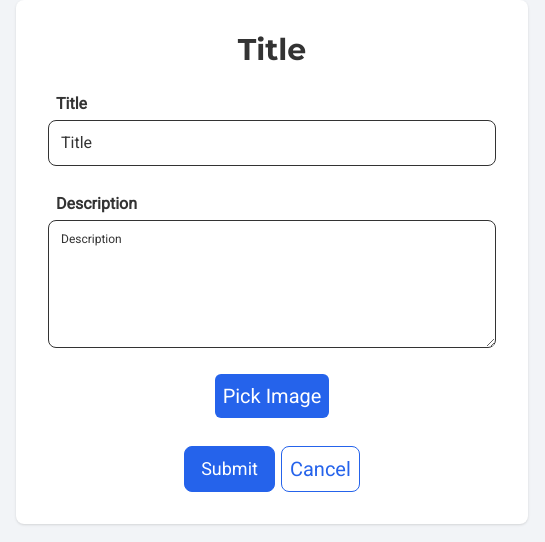
Test: Post From › Disables button while sending request
Type "New Title" into the field labelled "Title" at [272, 143], box [48,120,496,166]
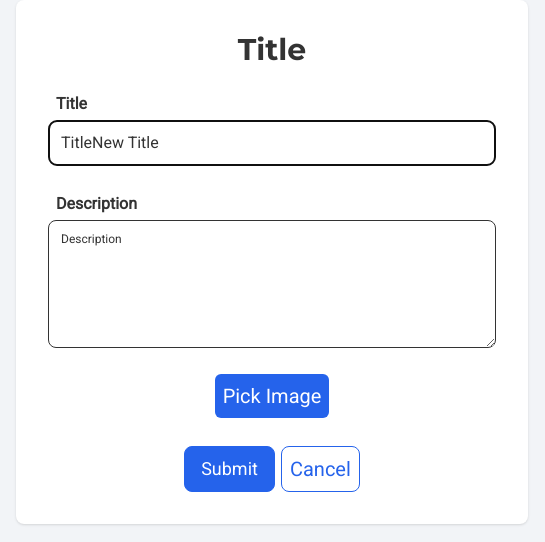
Click the button "Submit" at [230, 469], box [184,446,275,492]
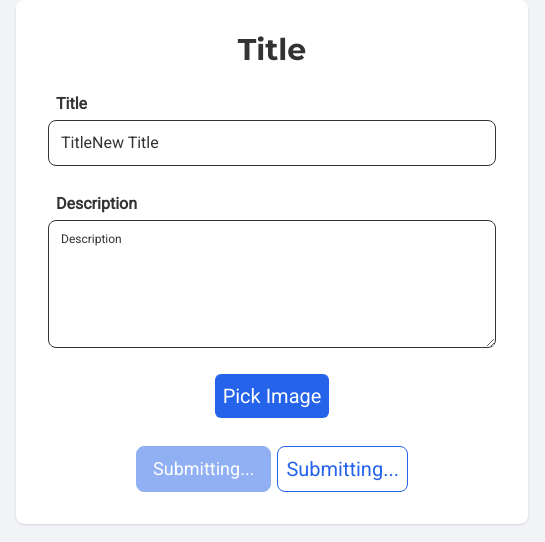
Now the button "Submitting..." is disabled, box [136,446,271,492]
Now the button "Submitting..." is shown, box [136,446,271,492]
